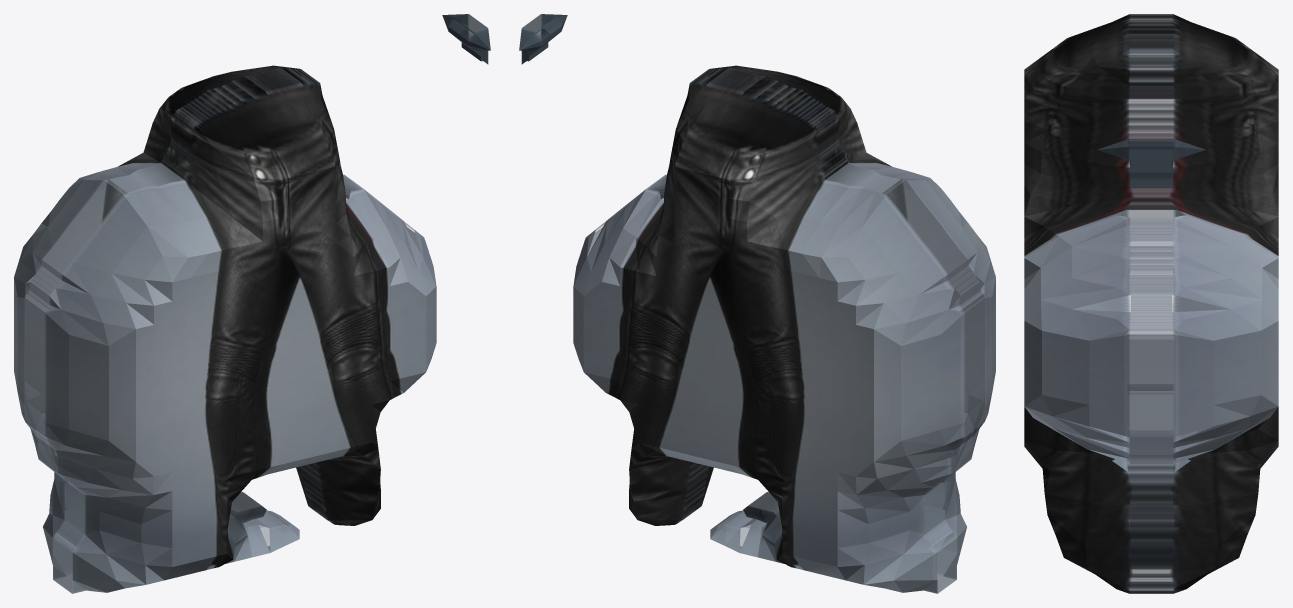
File: klim-horizon-riding-trouser-036.glb
3 views of the same model, side by side, from view 1: azimuth 30°, elevation 25°; view 2: azimuth 150°, elevation 25°; view 3: azimuth 270°, elevation 25° (orthographic). The views are drawn at different scales.
Visible parts, largest first — view 1: world; view 2: world; view 3: world.
Part boxes in pixels (x1,y1,x2,y2): world: (14,14,490,593); world: (519,14,995,593); world: (1024,14,1278,593).
Bounding box in the file's own units: 1 × 1 × 0.44.
Materials: 1 (1 with a texture image).
